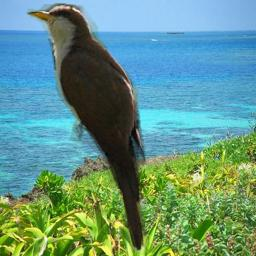Cuckoo: (26, 3, 152, 256)
